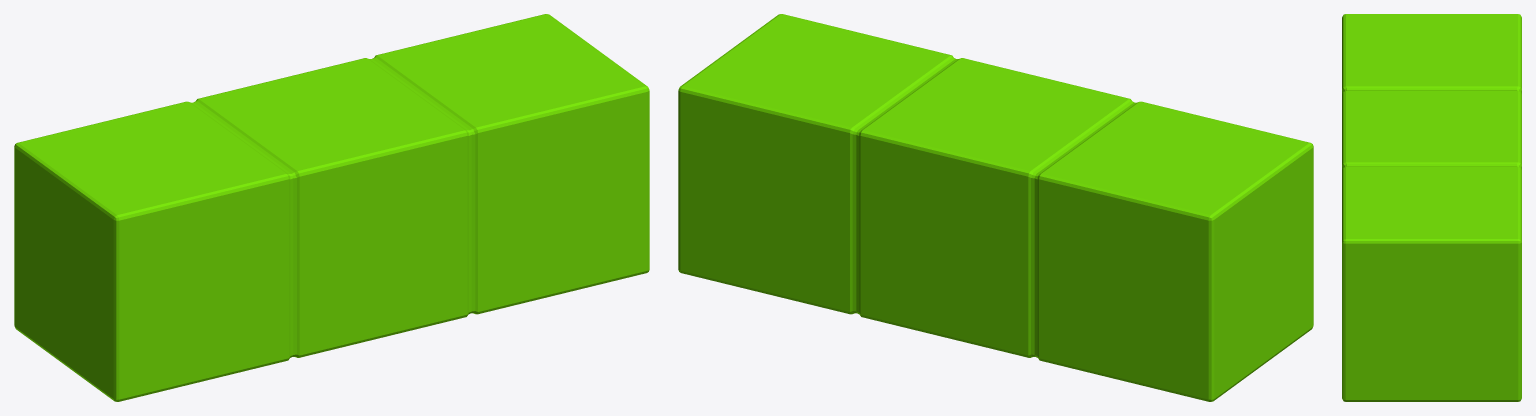
Rendered from 3_Obstaculos.fbx.
3 renders of one model, left to right at view 1: azimuth 30°, elevation 25°; view 2: azimuth 150°, elevation 25°; view 3: azimuth 270°, elevation 25°, orthographic. The views are drawn at different scales.
Visible parts, largest first — view 1: Cube.007; view 2: Cube.007; view 3: Cube.007.
Boxes of the visible parts, x1,y1,x2,y2 form: Cube.007: (14, 14, 649, 401); Cube.007: (678, 14, 1313, 401); Cube.007: (1342, 14, 1521, 401).
Bounding box in the file's own units: 919 × 306 × 306.
